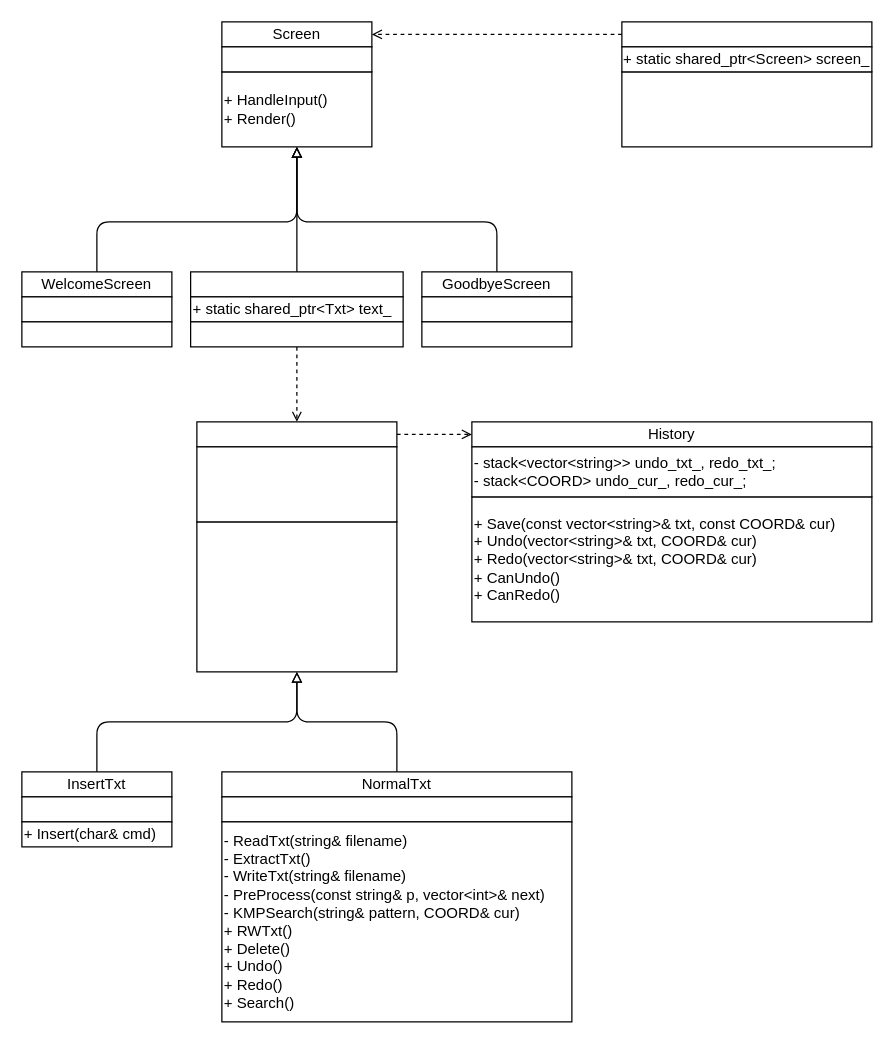
This 894x1044 diagram has some shape labels left out. The shapes that lost their labels are listed below. From the top down, each one's centre as x and y in pixels, then its label:
At (746,34): "Editor".
At (746,109): "+ Run() + HandleInput() + Render()".
At (296,284): "EditorScreen".
At (296,434): "Txt".
At (296,484): "# vector<string> txt_ # COORD cur_ # History history_".
At (296,596): "+ HandleInput() + Render() + MoveLeft() + MoveDown() + MoveUp() + MoveRight()".
At (396,809): "- fstream file_".
